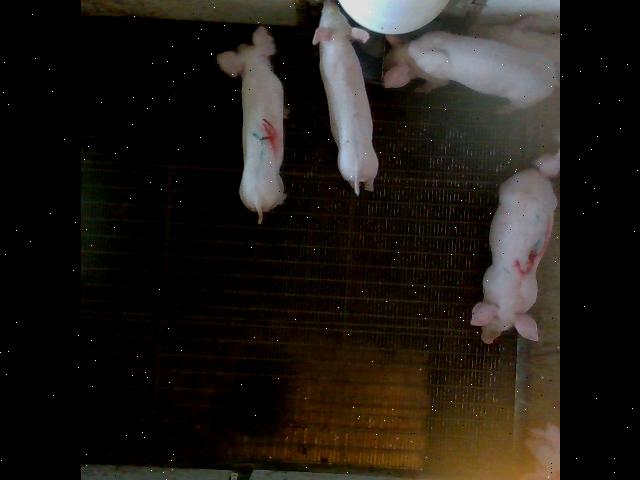pig-3: (470, 168, 556, 344)
pig-4: (215, 26, 284, 224)
